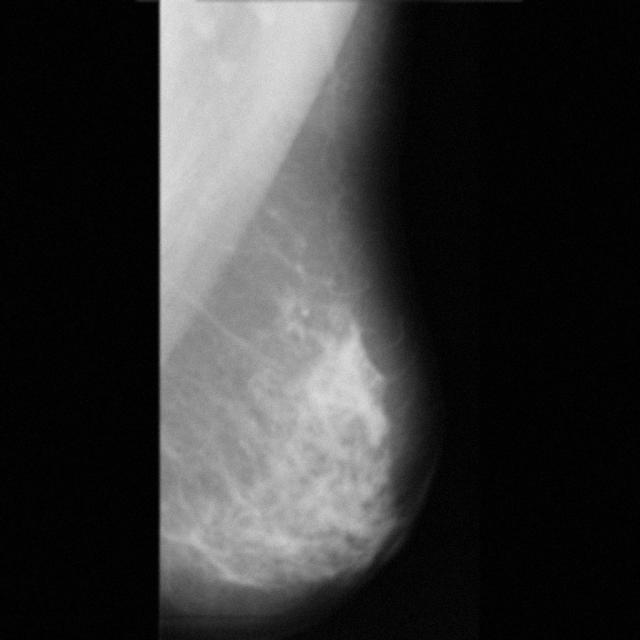CALC: (270, 293, 330, 353)
